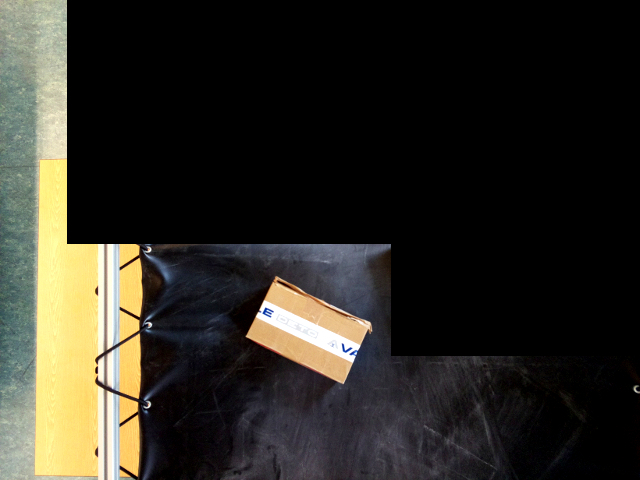cardboard: (246, 274, 373, 384)
